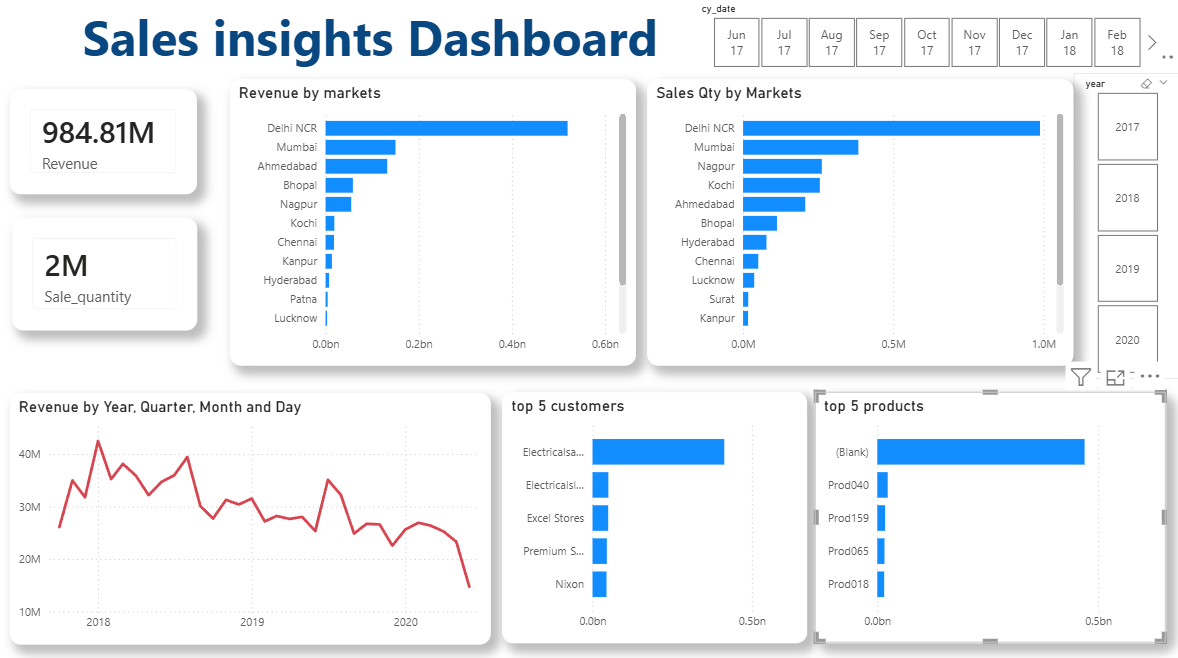

What the dashboard file says about the page in this screenshot:
{"tool":"powerbi","page":{"name":"Page 1","canvas":[1303,850],"ordinal":0},"visuals":[{"type":"cardVisual","fields":{"Data":["base measures.Revenue"]},"box":[0,0,245.4,157.4],"z":0},{"type":"cardVisual","fields":{"Data":["base measures.Sale_quantity"]},"box":[220.9,0,212.2,157.4],"z":1000},{"type":"barChart","title":"Revenue by markets","fields":{"Y":["base measures.Revenue"],"Category":["sales markets.markets_name"]},"box":[0,157.4,220.9,692.9],"z":2000},{"type":"barChart","title":"Sales Qty by Markets","fields":{"Y":["base measures.Sale_quantity"],"Category":["sales markets.markets_name"]},"box":[259.9,157.4,284.4,692.9],"z":3000},{"type":"slicer","fields":{"Values":["sales date.year"]},"box":[417.2,0,424.4,89.5],"z":4000},{"type":"slicer","fields":{"Values":["sales date.cy_date"]},"box":[822.9,0,480.7,89.5],"z":5000},{"type":"barChart","title":"top 5 customers ","fields":{"Category":["sales customers.custmer_name"],"Y":["base measures.Revenue"]},"box":[544.2,503.8,394.1,317.6],"z":5001},{"type":"barChart","title":"top 5 products  ","fields":{"Y":["base measures.Revenue"],"Category":["sales products.product_code"]},"box":[954.2,503.8,349.4,317.6],"z":5002},{"type":"lineChart","fields":{"Y":["base measures.Revenue"],"Category":["sales date.cy_date.Variation.Date Hierarchy.Year","sales date.cy_date.Variation.Date Hierarchy.Quarter","sales date.cy_date.Variation.Date Hierarchy.Month","sales date.cy_date.Variation.Date Hierarchy.Day"]},"box":[565.9,129.9,720.4,294.5],"z":5003}]}

Visuals, with their boxes in screenshot pixels (x1, y1, x2, y2):
cardVisual - base measures.Revenue: [x1=0, y1=28, x2=104, y2=143]
cardVisual - base measures.Sale_quantity: [x1=86, y1=28, x2=241, y2=143]
"Revenue by markets" barChart: [x1=0, y1=143, x2=86, y2=652]
"Sales Qty by Markets" barChart: [x1=114, y1=143, x2=323, y2=652]
slicer - sales date.year: [x1=230, y1=28, x2=542, y2=93]
slicer - sales date.cy_date: [x1=528, y1=28, x2=881, y2=93]
"top 5 customers " barChart: [x1=323, y1=398, x2=613, y2=631]
"top 5 products  " barChart: [x1=624, y1=398, x2=881, y2=631]
lineChart - base measures.Revenue x sales date.cy_date.Variation.Date Hierarchy.Year: [x1=339, y1=123, x2=868, y2=339]
